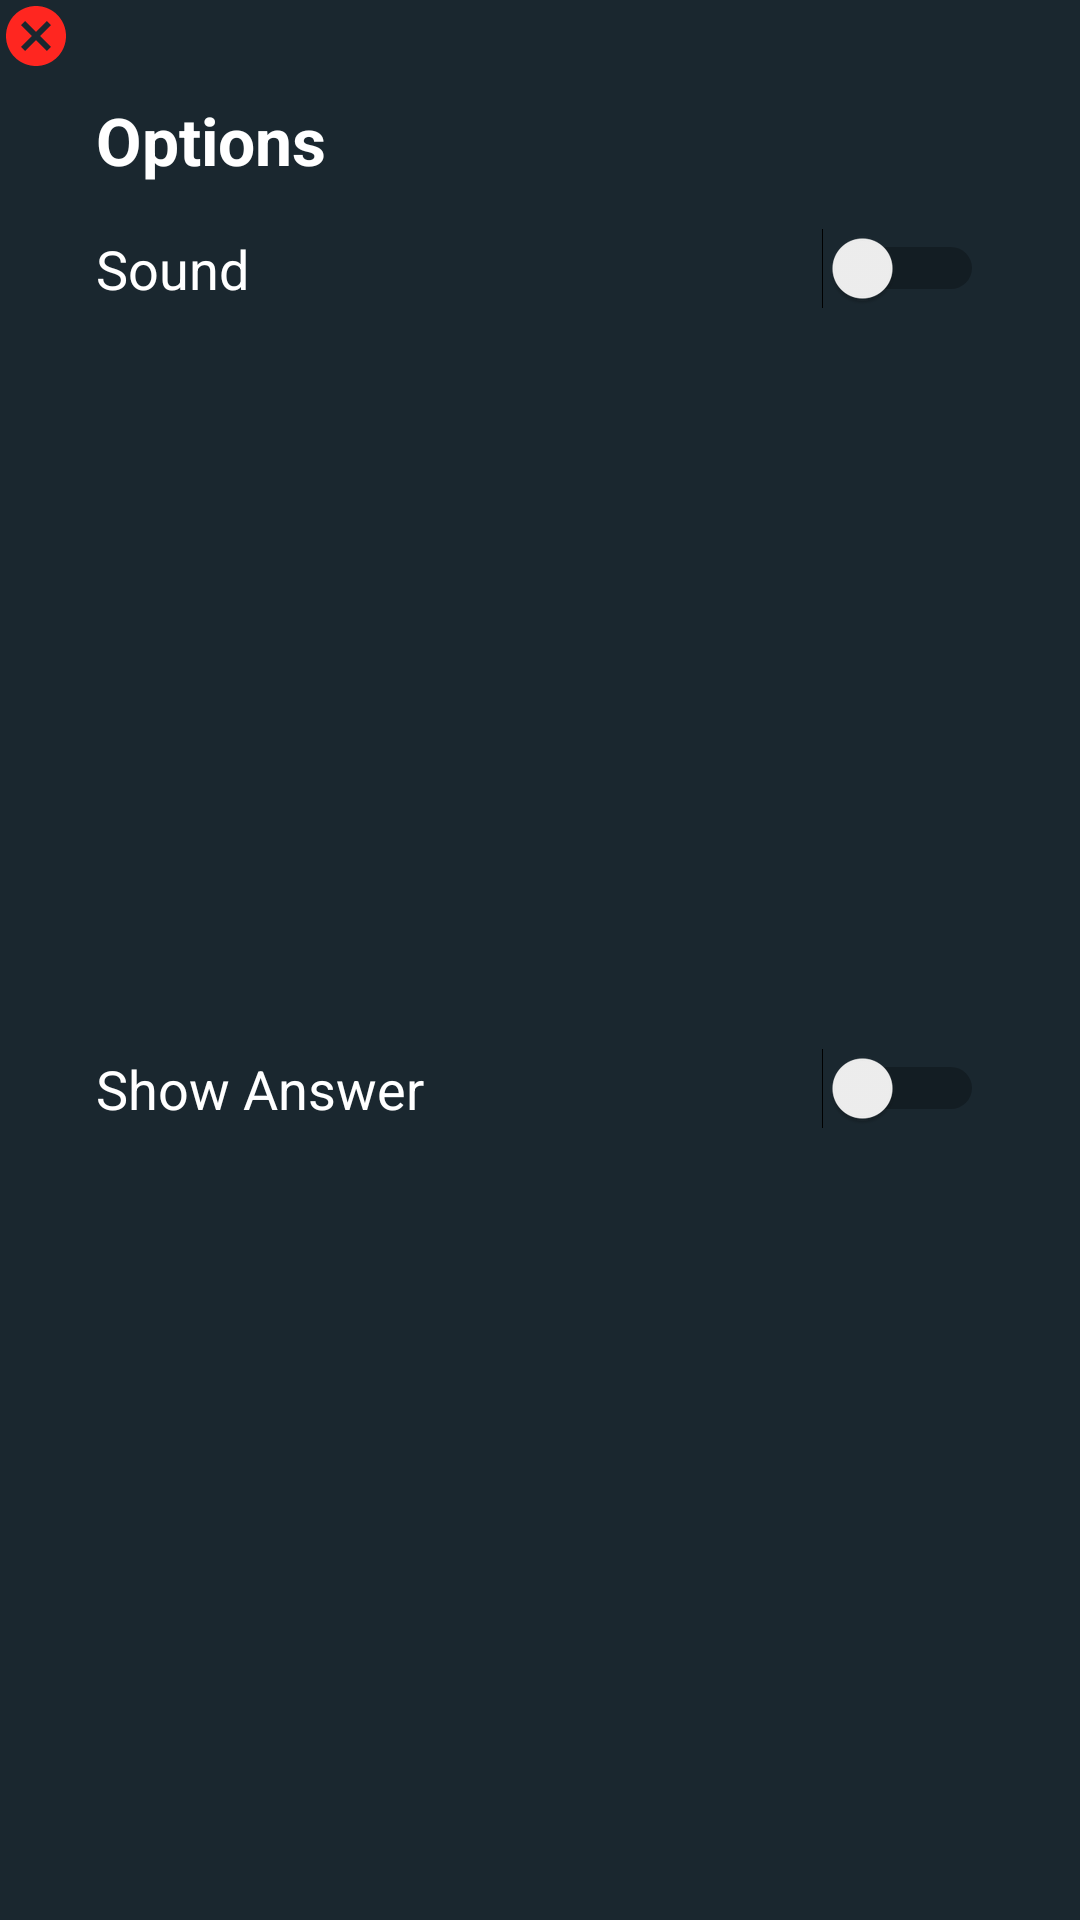

Locate icon controls on the screen. Image size 1080px×1920px, boxes as [x1, y1, x2, y2].
cancel: [6, 6, 66, 66]
